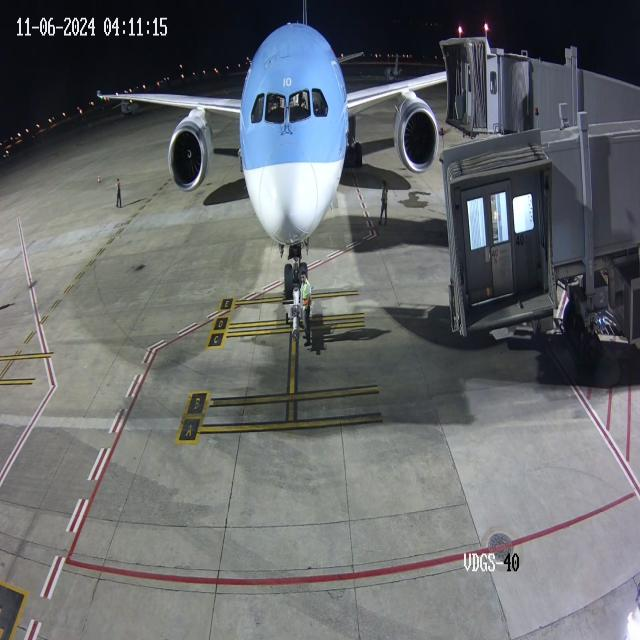bridge: (469, 24, 537, 147)
plane: (88, 3, 436, 305)
window: (247, 82, 332, 135)
